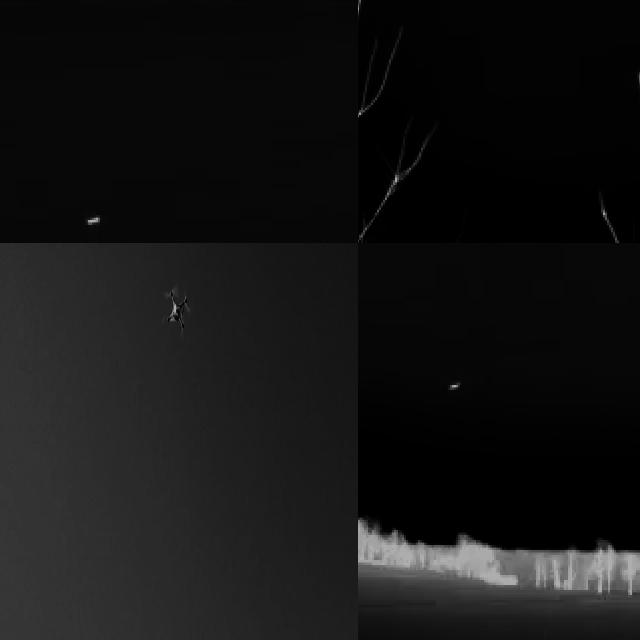1: (437, 374, 471, 406), (77, 210, 109, 240)
drone: (164, 284, 193, 334)
